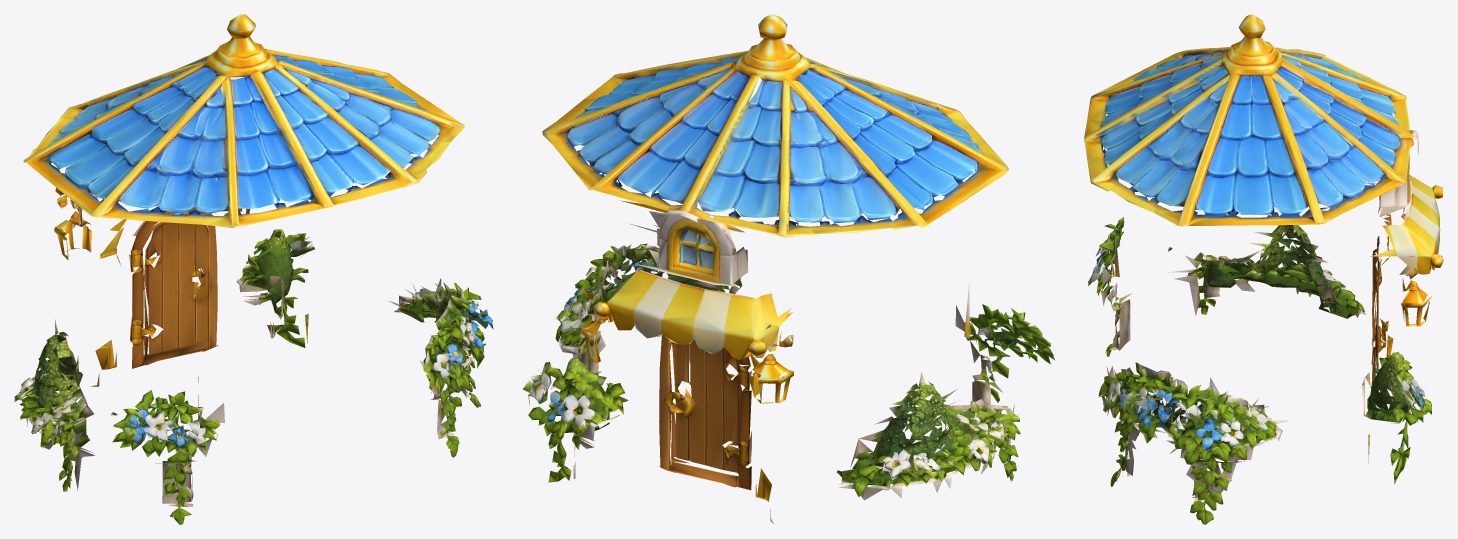
The model's file is HaloDomeHouse_07_placed_v3.glb.
3 renders of one model, left to right at view 1: azimuth 30°, elevation 25°; view 2: azimuth 150°, elevation 25°; view 3: azimuth 270°, elevation 25°, orthographic. The views are drawn at different scales.
Visible parts, largest first — view 1: HaloDomeHouse_07_Roof_t10, HaloDomeHouse_07_Roof_t11, HaloDomeHouse_07_Roof_t01, HaloDomeHouse_07_Door, HaloDomeHouse_07_Roof_t00, HaloDomeHouse_07_PlantsBed_t11, HaloDomeHouse_07_PlantsBed_t10, HaloDomeHouse_07_PlantsBed_t00, HaloDomeHouse_07_PlantsBed_t01, HaloDomeHouse_07_PlantsR_t11, HaloDomeHouse_07_PlantsR_t01, HaloDomeHouse_07_DoorHw (+2 smaller); view 2: HaloDomeHouse_07_Roof_t01, HaloDomeHouse_07_Roof_t00, HaloDomeHouse_07_Roof_t11, HaloDomeHouse_07_Roof_t10, HaloDomeHouse_07_Door, HaloDomeHouse_07_Awning, HaloDomeHouse_07_PlantsBed_t00, HaloDomeHouse_07_PlantsBed_t10, HaloDomeHouse_07_PlantsBed_t11, HaloDomeHouse_07_PlantsBed_t01, HaloDomeHouse_07_Dormer_t10, HaloDomeHouse_07_PlantsR_t11 (+8 smaller); view 3: HaloDomeHouse_07_Roof_t10, HaloDomeHouse_07_Roof_t00, HaloDomeHouse_07_Roof_t01, HaloDomeHouse_07_Roof_t11, HaloDomeHouse_07_PlantsBed_t11, HaloDomeHouse_07_PlantsBed_t10, HaloDomeHouse_07_PlantsBed_t00, HaloDomeHouse_07_PlantsBed_t01, HaloDomeHouse_07_Awning, HaloDomeHouse_07_PlantsR_t01, HaloDomeHouse_07_PlantsR_t11, HaloDomeHouse_07_Door (+5 smaller).
Boxes of the visible parts, x1=… form: HaloDomeHouse_07_Roof_t10: x1=48, y1=14, x2=460, y2=216; HaloDomeHouse_07_Roof_t11: x1=23, y1=31, x2=451, y2=227; HaloDomeHouse_07_Roof_t01: x1=49, y1=57, x2=460, y2=212; HaloDomeHouse_07_Door: x1=90, y1=206, x2=218, y2=386; HaloDomeHouse_07_Roof_t00: x1=24, y1=14, x2=464, y2=227; HaloDomeHouse_07_PlantsBed_t11: x1=20, y1=278, x2=490, y2=507; HaloDomeHouse_07_PlantsBed_t10: x1=14, y1=283, x2=488, y2=489; HaloDomeHouse_07_PlantsBed_t00: x1=21, y1=282, x2=492, y2=518; HaloDomeHouse_07_PlantsBed_t01: x1=24, y1=283, x2=493, y2=524; HaloDomeHouse_07_PlantsR_t11: x1=236, y1=229, x2=310, y2=343; HaloDomeHouse_07_PlantsR_t01: x1=238, y1=238, x2=308, y2=333; HaloDomeHouse_07_DoorHw: x1=95, y1=219, x2=204, y2=369; HaloDomeHouse_07_Roof_t01: x1=566, y1=51, x2=1003, y2=225; HaloDomeHouse_07_Roof_t00: x1=553, y1=14, x2=1008, y2=225; HaloDomeHouse_07_Roof_t11: x1=542, y1=38, x2=1008, y2=233; HaloDomeHouse_07_Roof_t10: x1=574, y1=14, x2=981, y2=237; HaloDomeHouse_07_Door: x1=659, y1=334, x2=773, y2=523; HaloDomeHouse_07_Awning: x1=592, y1=262, x2=792, y2=359; HaloDomeHouse_07_PlantsBed_t00: x1=558, y1=245, x2=1045, y2=500; HaloDomeHouse_07_PlantsBed_t10: x1=555, y1=246, x2=1054, y2=492; HaloDomeHouse_07_PlantsBed_t11: x1=558, y1=245, x2=1044, y2=489; HaloDomeHouse_07_PlantsBed_t01: x1=555, y1=243, x2=1035, y2=488; HaloDomeHouse_07_Dormer_t10: x1=621, y1=200, x2=744, y2=286; HaloDomeHouse_07_PlantsR_t11: x1=538, y1=357, x2=623, y2=480; HaloDomeHouse_07_Roof_t10: x1=1084, y1=14, x2=1418, y2=225; HaloDomeHouse_07_Roof_t00: x1=1084, y1=14, x2=1407, y2=226; HaloDomeHouse_07_Roof_t01: x1=1086, y1=46, x2=1418, y2=225; HaloDomeHouse_07_Roof_t11: x1=1093, y1=36, x2=1409, y2=224; HaloDomeHouse_07_PlantsBed_t11: x1=1090, y1=224, x2=1365, y2=512; HaloDomeHouse_07_PlantsBed_t10: x1=1091, y1=217, x2=1345, y2=524; HaloDomeHouse_07_PlantsBed_t00: x1=1088, y1=225, x2=1365, y2=523; HaloDomeHouse_07_PlantsBed_t01: x1=1096, y1=218, x2=1358, y2=513; HaloDomeHouse_07_Awning: x1=1370, y1=175, x2=1443, y2=274; HaloDomeHouse_07_PlantsR_t01: x1=1370, y1=354, x2=1431, y2=484; HaloDomeHouse_07_PlantsR_t11: x1=1365, y1=352, x2=1425, y2=463; HaloDomeHouse_07_Door: x1=1371, y1=236, x2=1387, y2=385.
Bounding box in the file's own units: 20.17 × 19.35 × 15.37.
9 materials, 8 textured.
